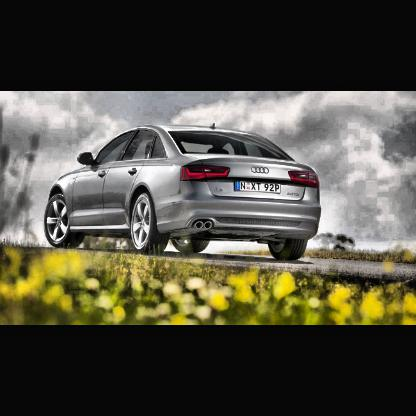Audi S6 Sedan 2011: (46, 124, 323, 260)
